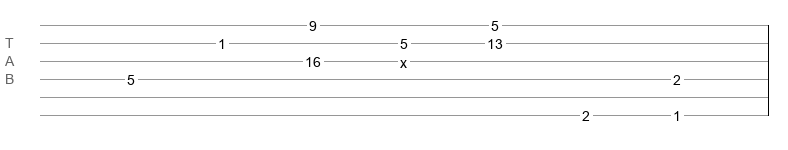1: (218, 36, 226, 46), (673, 108, 681, 118)
13: (487, 36, 503, 46)
16: (305, 54, 321, 64)
2: (582, 108, 590, 118), (673, 72, 681, 82)
5: (127, 72, 135, 82), (400, 36, 408, 46), (491, 18, 499, 28)
9: (309, 18, 317, 28)
x: (400, 55, 407, 63)
